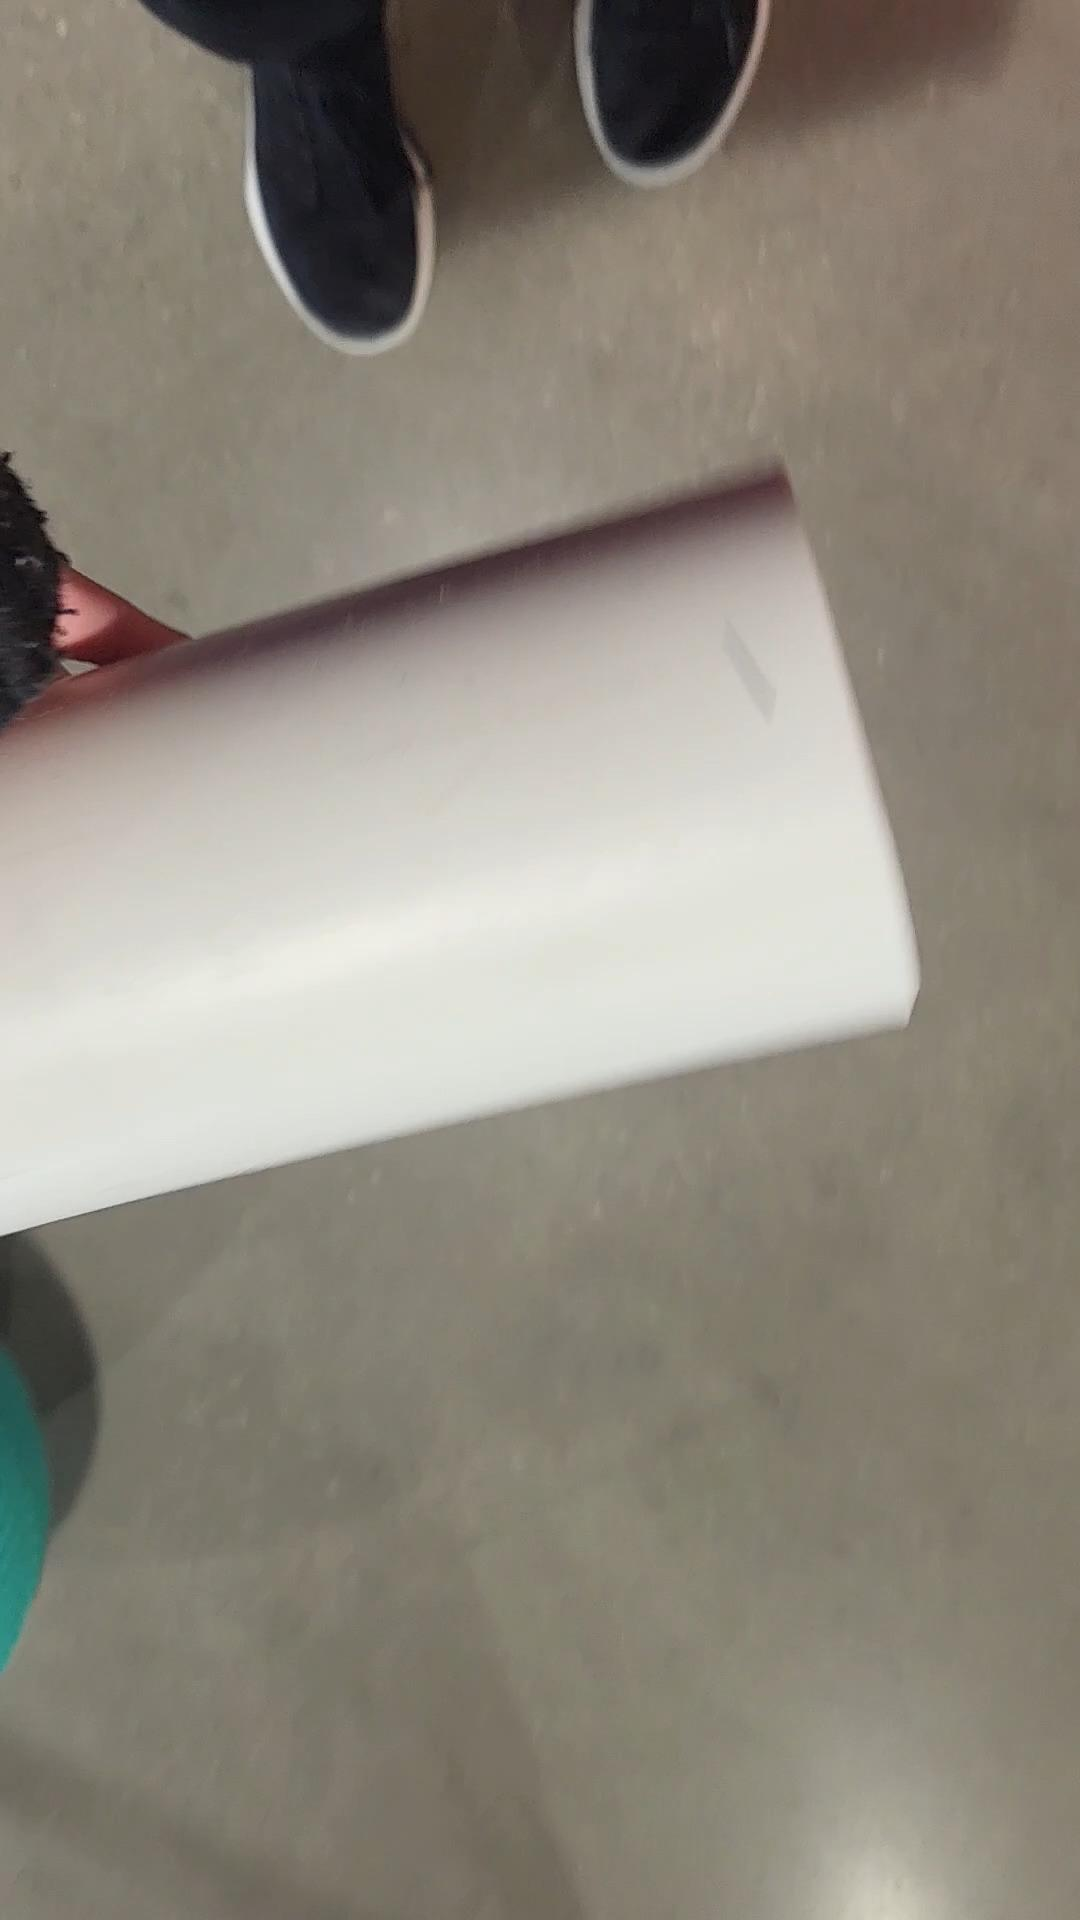algae: (0, 1325, 58, 1677)
coral: (0, 463, 927, 1237)
